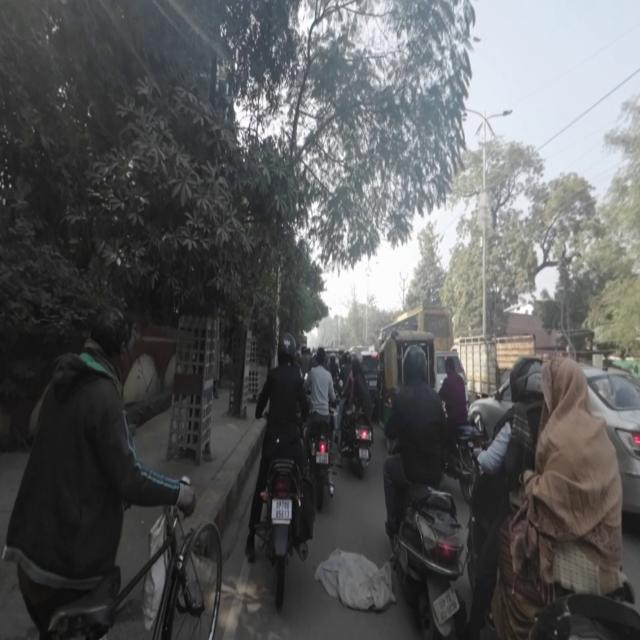Garbage: (314, 544, 392, 614)
